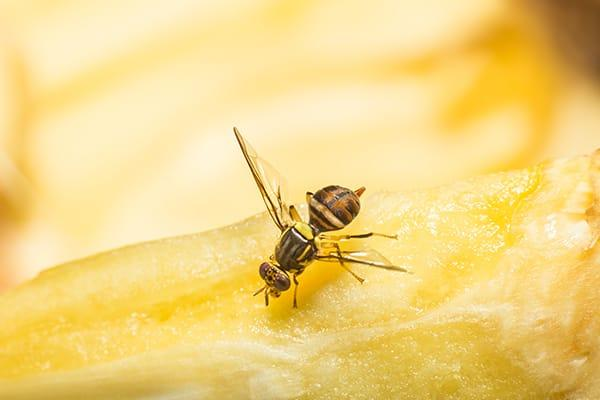Fruit fly: (217, 139, 399, 312)
